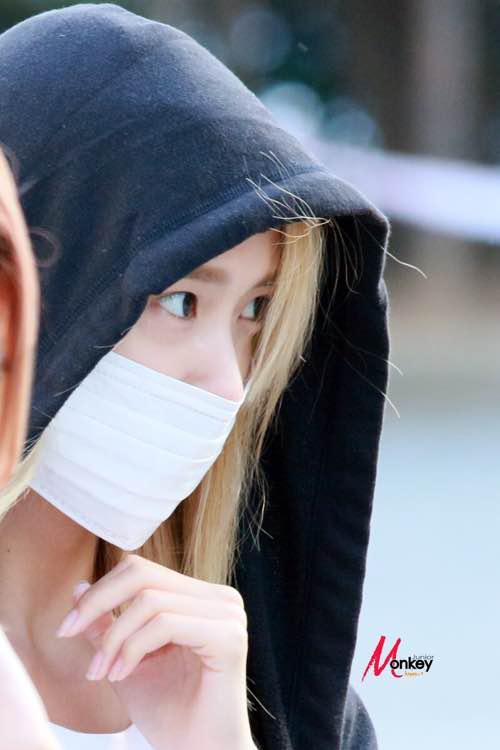WRONG: (32, 242, 287, 539)
